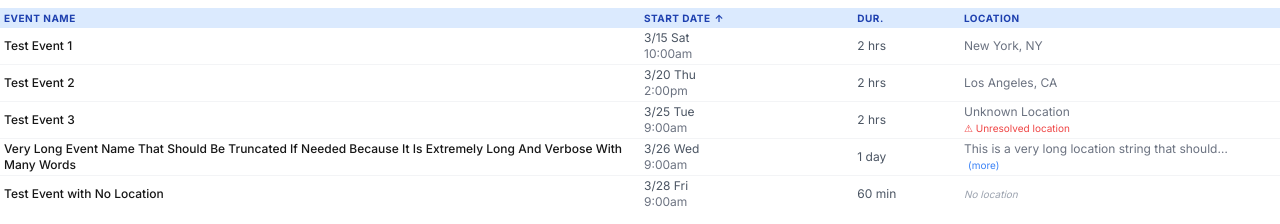
it: EventList › sorts events by location when location header is clicked
// Click on the location column header
Click the button "Location": [992, 18] box left=960, top=8, right=1279, bottom=28
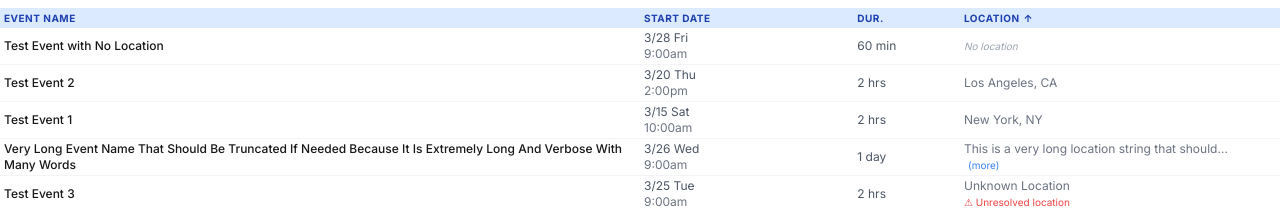
Expected: the row that starts with "Test Event with No Location" is shown, left=964, top=40, right=1018, bottom=52
// Click again to sort in descending order
Click the button "Location↑": [992, 18] box left=960, top=8, right=1279, bottom=28
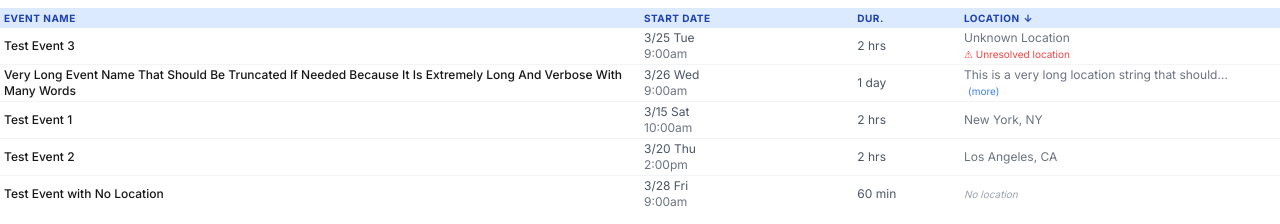
Expected: the row that starts with "Test Event 3" shows "Unknown Location", left=964, top=30, right=1070, bottom=45
